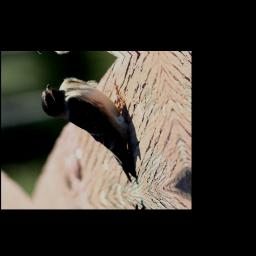Swallow: (35, 69, 147, 195)
